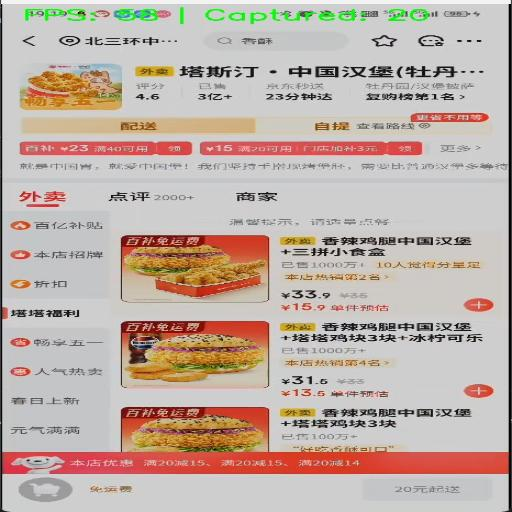back: (0, 28, 55, 56)
butten: (0, 358, 122, 388), (102, 183, 203, 209), (2, 330, 110, 354), (218, 183, 302, 209), (8, 184, 89, 209), (0, 304, 100, 324), (455, 30, 502, 53)
input: (202, 33, 344, 51)
